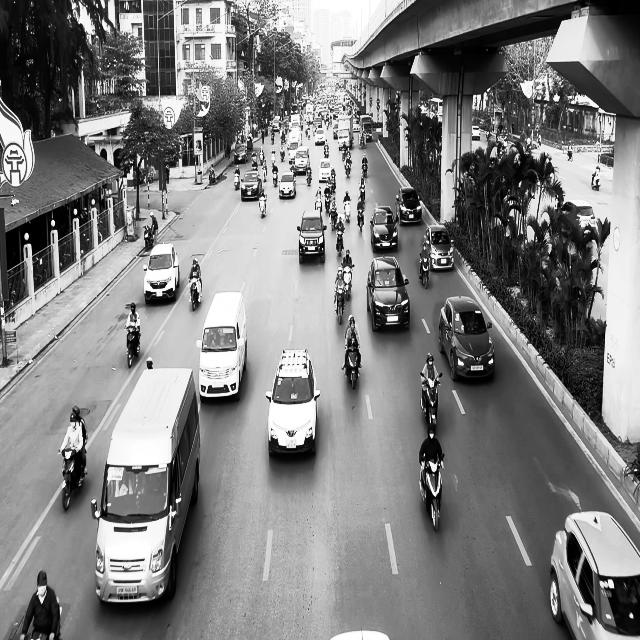car: (549, 510, 640, 640), (266, 348, 320, 457), (196, 290, 247, 402), (438, 295, 495, 382), (366, 256, 410, 332), (143, 242, 179, 304), (297, 209, 326, 264), (558, 199, 596, 238), (424, 224, 454, 271), (370, 205, 398, 251), (395, 187, 422, 225), (240, 171, 262, 201), (279, 172, 296, 198), (472, 125, 480, 140)
motorbike: (58, 440, 88, 510), (420, 452, 444, 532), (420, 372, 442, 426), (343, 342, 361, 390), (125, 327, 140, 368), (188, 276, 202, 311), (342, 264, 354, 300), (334, 286, 345, 324), (420, 256, 430, 288), (144, 225, 154, 250), (591, 170, 601, 190), (357, 206, 364, 231), (259, 194, 266, 217), (233, 171, 240, 190), (209, 166, 216, 185)
truck: (90, 365, 200, 605)
